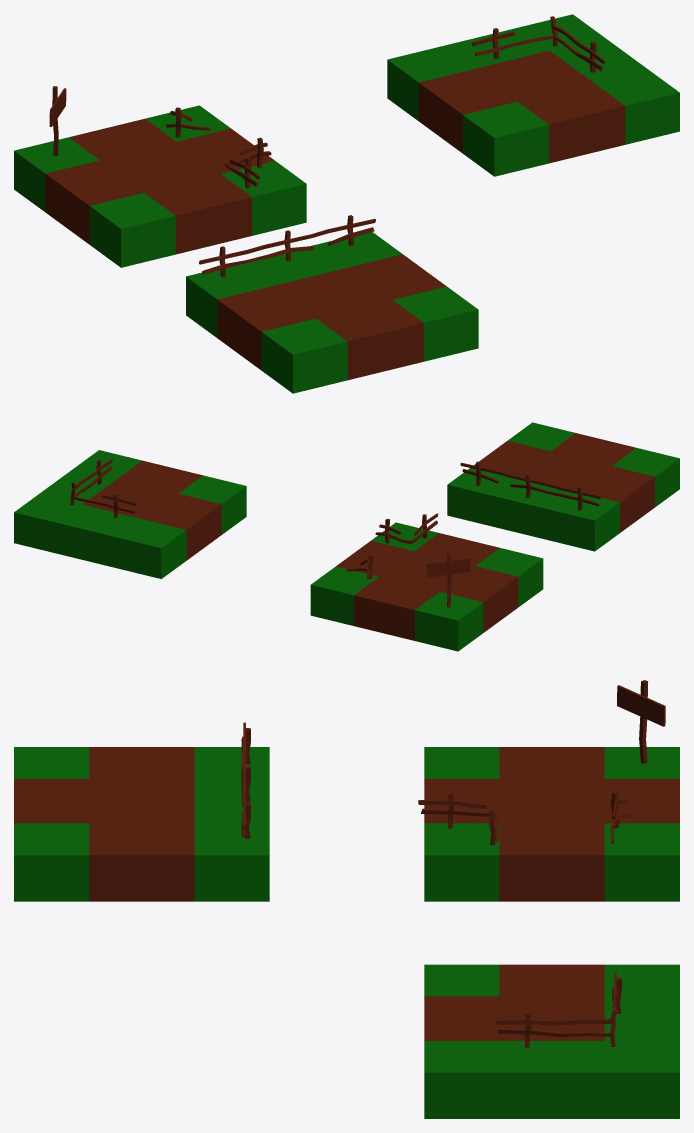
File: TileSetAddition(RoadImprove).FBX
3 renders of one model, top to bottom at view 1: azimuth 30°, elevation 25°; view 2: azimuth 150°, elevation 25°; view 3: azimuth 270°, elevation 25°, orthographic. The views are drawn at different scales.
Visible parts, largest first — view 1: RoadT, RoadQuad, RoadCorner; view 2: RoadQuad, RoadT, RoadCorner; view 3: RoadQuad, RoadT, RoadCorner.
Part boxes in pixels (x1,y1,x2,y2): RoadT: [186, 215, 478, 393]; RoadQuad: [14, 86, 306, 267]; RoadCorner: [387, 14, 679, 176]; RoadQuad: [310, 513, 543, 651]; RoadT: [447, 422, 679, 551]; RoadCorner: [14, 450, 246, 578]; RoadQuad: [418, 680, 679, 901]; RoadT: [14, 722, 269, 901]; RoadCorner: [424, 964, 679, 1118].
Bounding box in the file's own units: 3012 × 550 × 2604.
